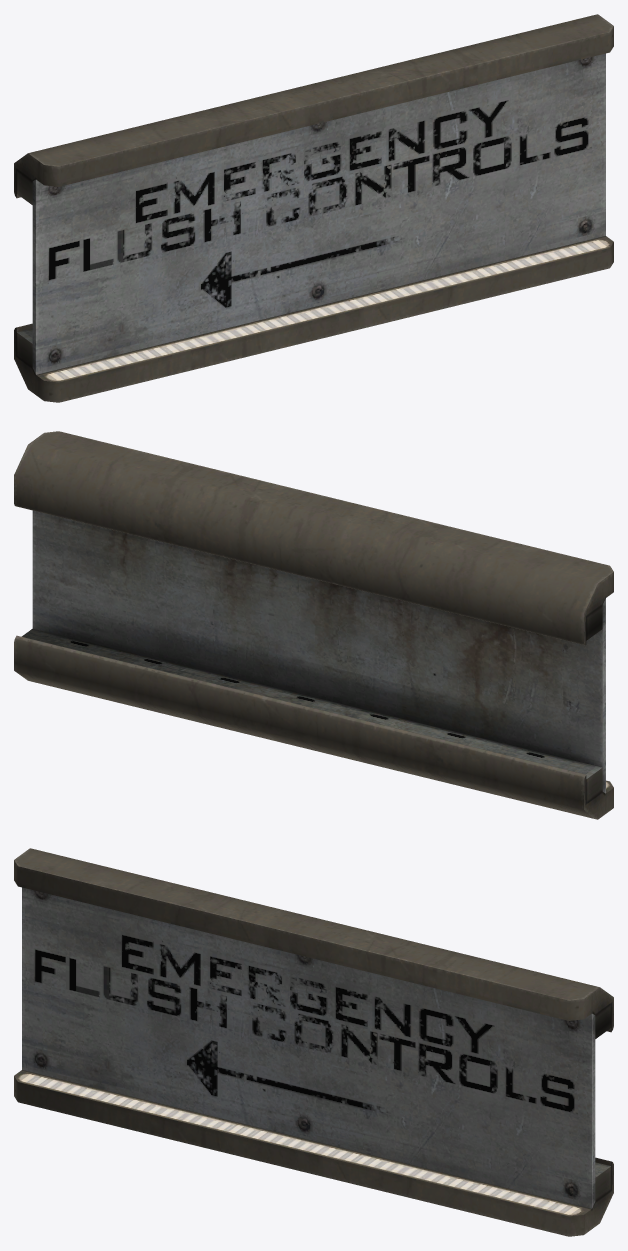
The model's file is sign_emergency_flush_controls_Larrow.dae.
3 renders of one model, top to bottom at view 1: azimuth 30°, elevation 25°; view 2: azimuth 150°, elevation 25°; view 3: azimuth 330°, elevation 25°, orthographic.
Visible parts, largest first — view 1: pCube1; view 2: pCube1; view 3: pCube1.
Boxes of the visible parts, bbox=[...] form: pCube1: bbox=[14, 14, 613, 402]; pCube1: bbox=[14, 431, 613, 819]; pCube1: bbox=[14, 848, 613, 1236].
Bounding box in the file's own units: 1 × 0.3959 × 0.1078.
